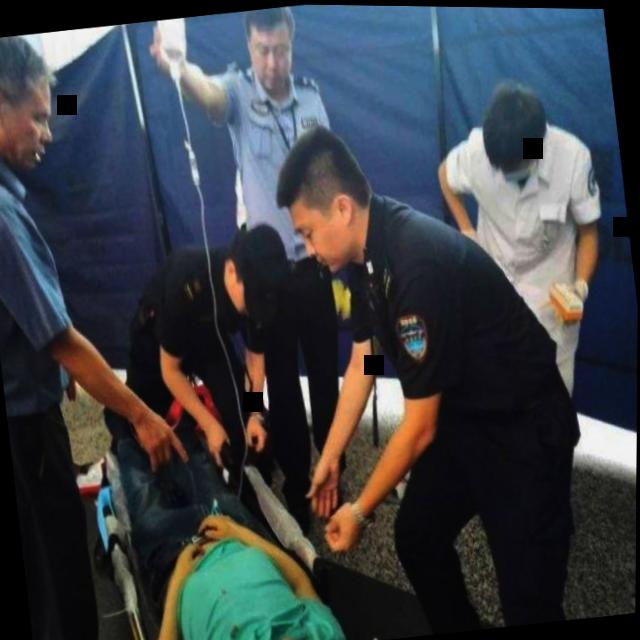Fall-Detected: (76, 347, 381, 640)
